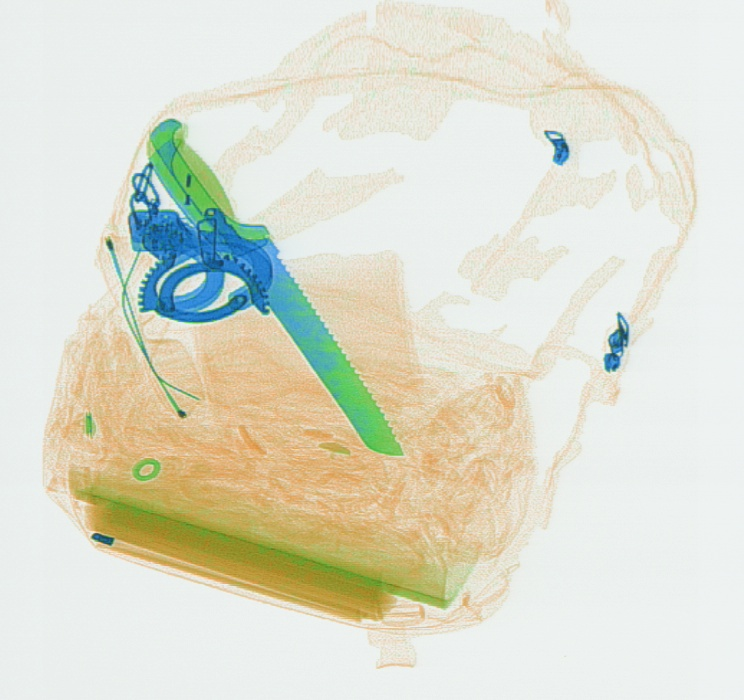handcuffs: (120, 162, 276, 324)
